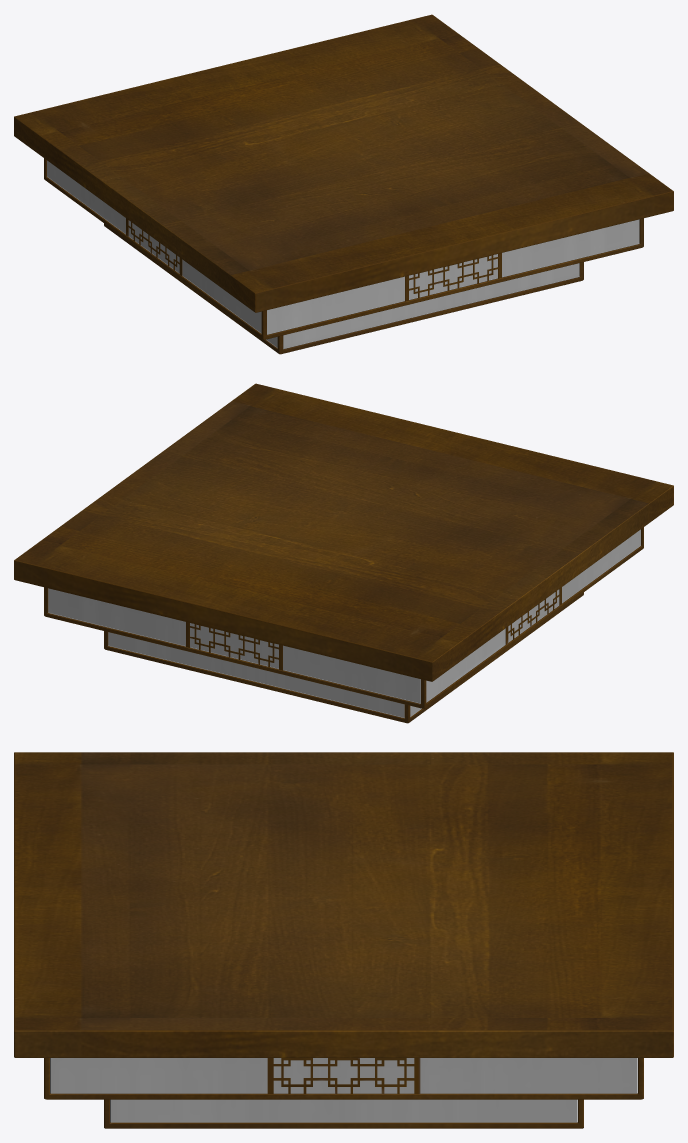
File: raw_model.obj
3 views of the same model, one above another, from view 1: azimuth 30°, elevation 25°; view 2: azimuth 150°, elevation 25°; view 3: azimuth 270°, elevation 25° (orthographic). The views are drawn at different scales.
Parts seen in each view (by area): view 1: solid_001, glass_001; view 2: solid_001, glass_001; view 3: solid_001, glass_001.
Part boxes in pixels (x1,y1,x2,y2): solid_001: (14, 14, 673, 354); glass_001: (47, 160, 639, 349); solid_001: (14, 383, 673, 723); glass_001: (48, 529, 640, 718); solid_001: (14, 752, 673, 1128); glass_001: (50, 1058, 637, 1122).
Size of the model in its own units: 0.55 by 0.1332 by 0.55.
1 material, 1 textured.
